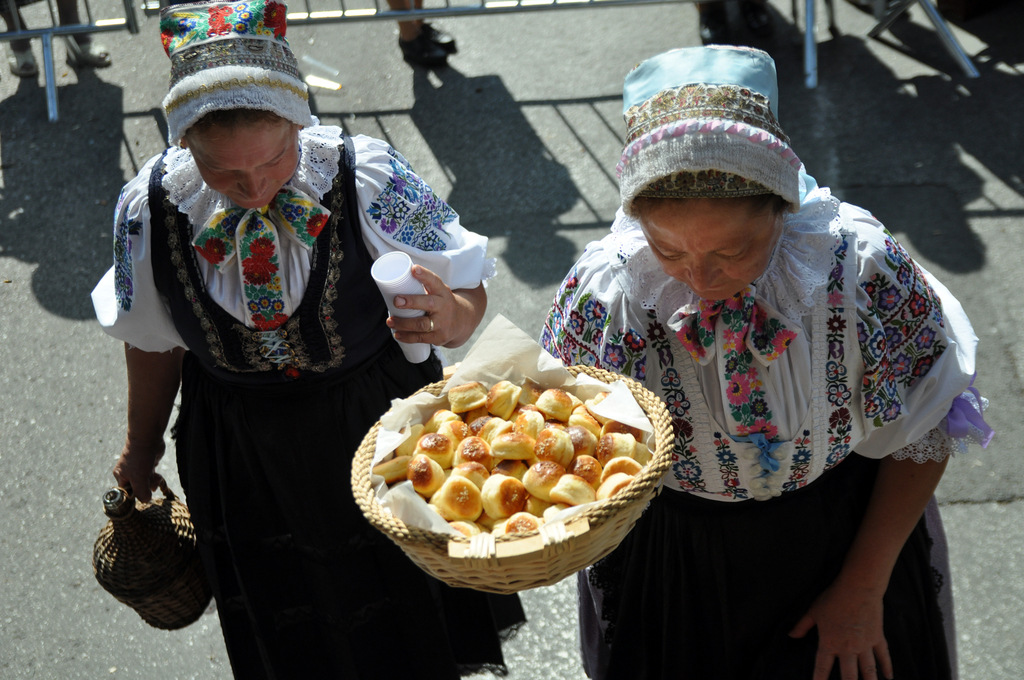Footwear: (401, 22, 465, 58)
